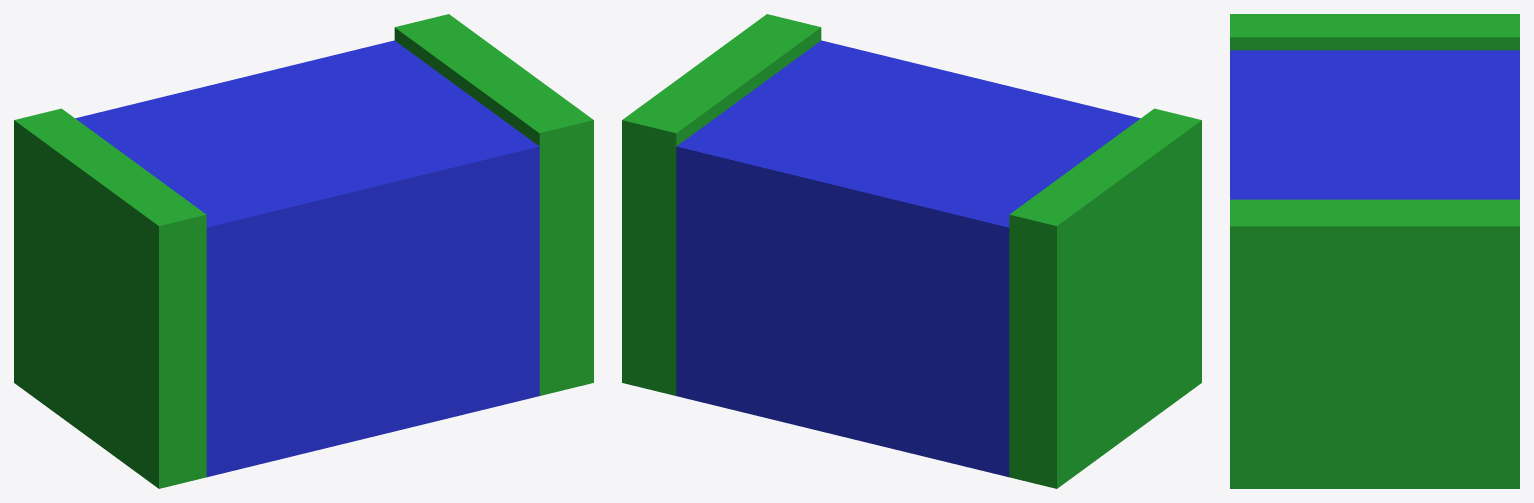
File: module-edge_river.glb
3 views of the same model, side by side, from view 1: azimuth 30°, elevation 25°; view 2: azimuth 150°, elevation 25°; view 3: azimuth 270°, elevation 25° (orthographic).
Parts seen in each view (by area): view 1: module-edge_river; view 2: module-edge_river; view 3: module-edge_river.
Boxes of the visible parts, x1,y1,x2,y2 form: module-edge_river: (14,14,593,488); module-edge_river: (622,14,1201,488); module-edge_river: (1230,14,1519,488).
Bounding box in the file's own units: 0.866 × 0.5 × 0.5.
